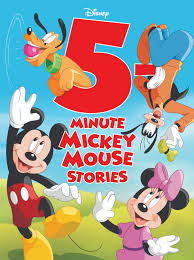mickey: (5, 86, 82, 260)
